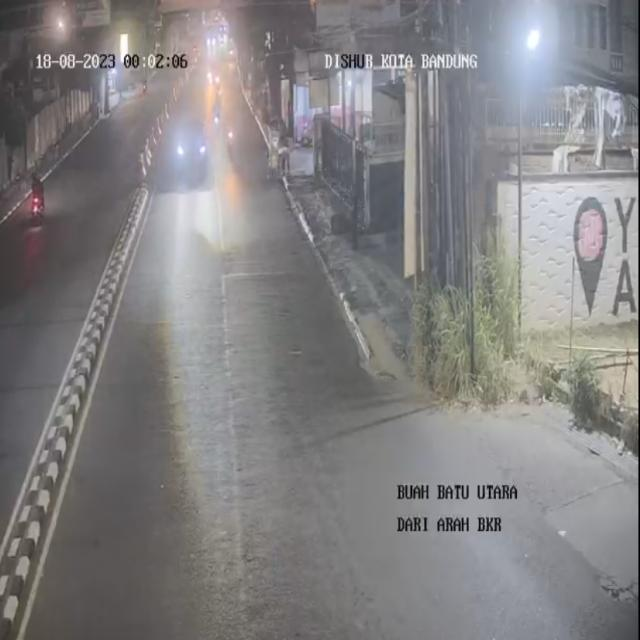cars: (169, 102, 208, 185)
motorcycle: (210, 91, 225, 131), (223, 112, 236, 149)
